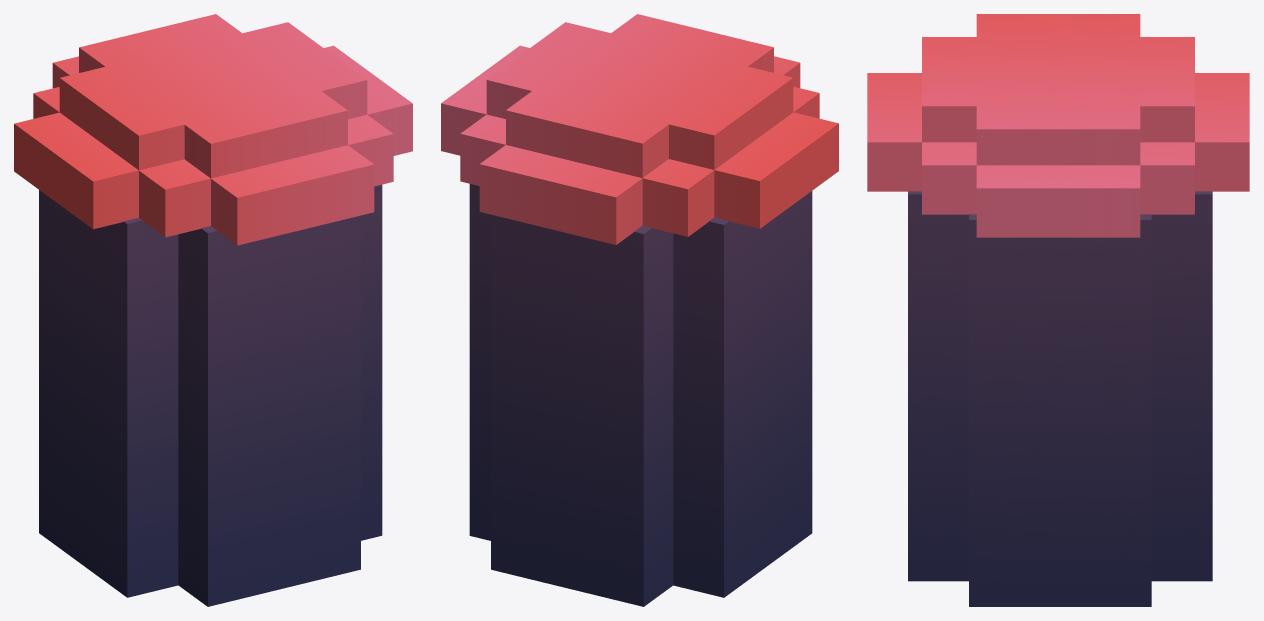
File: Slime.fbx
3 renders of one model, left to right at view 1: azimuth 30°, elevation 25°; view 2: azimuth 150°, elevation 25°; view 3: azimuth 270°, elevation 25°, orthographic. The views are drawn at different scales.
Parts seen in each view (by area): view 1: Slime; view 2: Slime; view 3: Slime.
Part boxes in pixels (<box>): Slime: <box>14,14,412,606</box>; Slime: <box>441,14,838,606</box>; Slime: <box>867,14,1249,606</box>.
Size of the model in its own units: 32.8 by 44.67 by 32.8.
